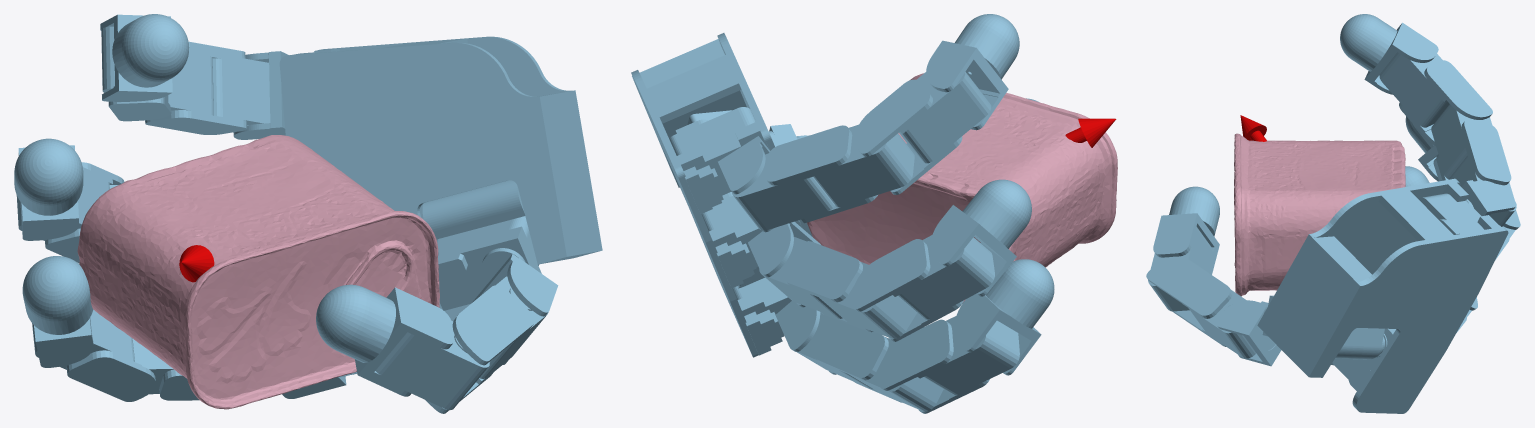
3 renders of one model, left to right at view 1: azimuth 30°, elevation 25°; view 2: azimuth 150°, elevation 25°; view 3: azimuth 270°, elevation 25°, orthographic. The views are drawn at different scales.
Visible parts, largest first — view 1: world, potted_meat_can.stl; view 2: world, potted_meat_can.stl; view 3: world, potted_meat_can.stl.
Part boxes in pixels (<box>): world: <box>14,14,602,413</box>; potted_meat_can.stl: <box>77,135,439,409</box>; world: <box>631,14,1116,413</box>; potted_meat_can.stl: <box>807,73,1117,303</box>; world: <box>1146,14,1520,413</box>; potted_meat_can.stl: <box>1234,133,1405,296</box>.
Size of the model in its own units: 0.2075 by 0.1677 by 0.1818.
